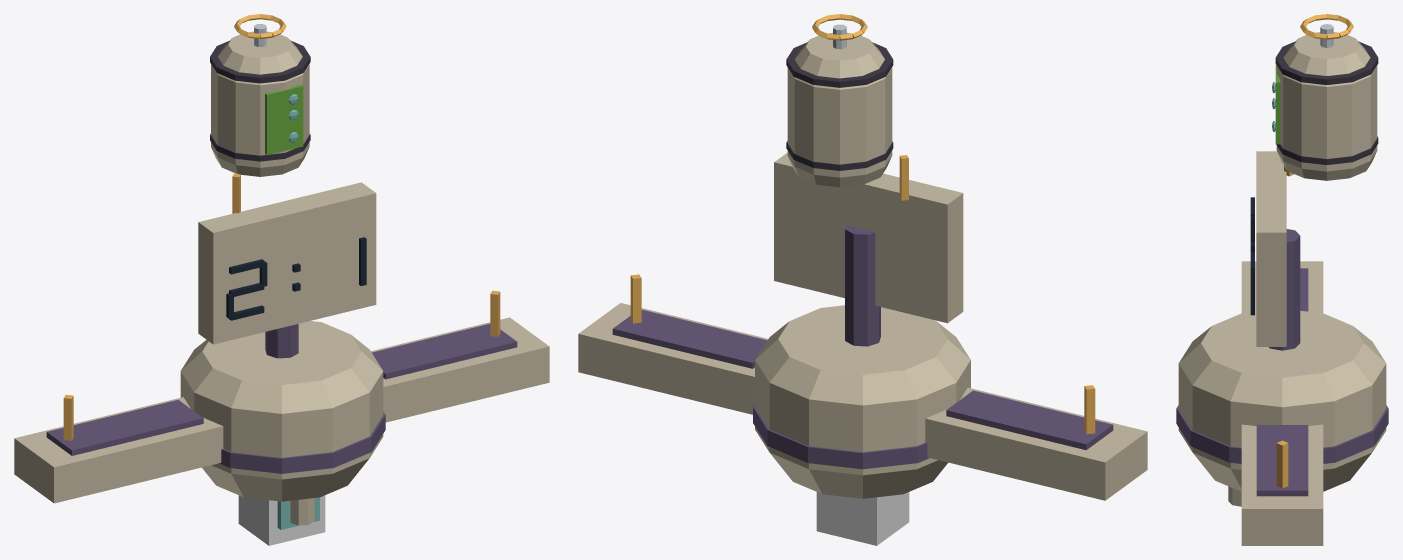
The model's file is space_port_fleece.glb.
3 renders of one model, left to right at view 1: azimuth 30°, elevation 25°; view 2: azimuth 150°, elevation 25°; view 3: azimuth 270°, elevation 25°, orthographic. The views are drawn at different scales.
Visible parts, largest first — view 1: FixedDetails, WoodBody, BrassTrim; view 2: FixedDetails, WoodBody, BrassTrim; view 3: FixedDetails, BrassTrim.
Part boxes in pixels (x1,y1,x2,y2): FixedDetails: (14,31,549,529); WoodBody: (238,495,325,545); BrassTrim: (63,14,500,440); FixedDetails: (578,32,1147,500); WoodBody: (816,492,909,545); BrassTrim: (630,14,1095,434); FixedDetails: (1176,32,1388,545); BrassTrim: (1276,14,1353,488).
Bounding box in the file's own units: 0.79 × 0.7437 × 0.286.
